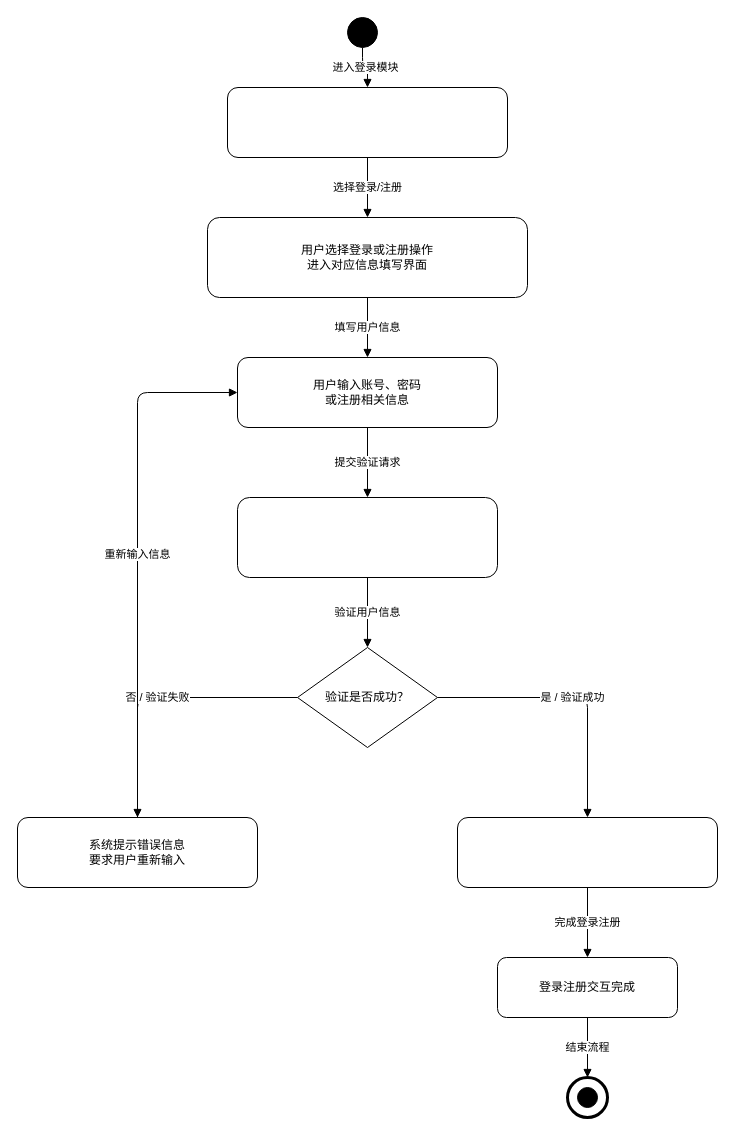
The diagram is 735 pixels wide and 1136 high, and some of its shapes have lost their labels. Each missing label, with the centre of its shape:
"用户进入登录/注册页面 选择身份验证功能" goes at point 367,122.
"登录或注册成功 系统跳转至首页" goes at point 587,852.
"系统接收用户输入数据 验证账号与注册信息" goes at point 367,537.
